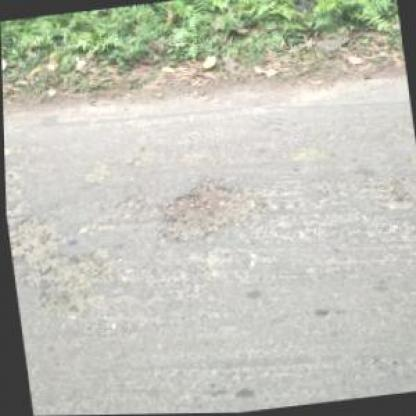pothole: (152, 173, 270, 244), (16, 249, 110, 302)
